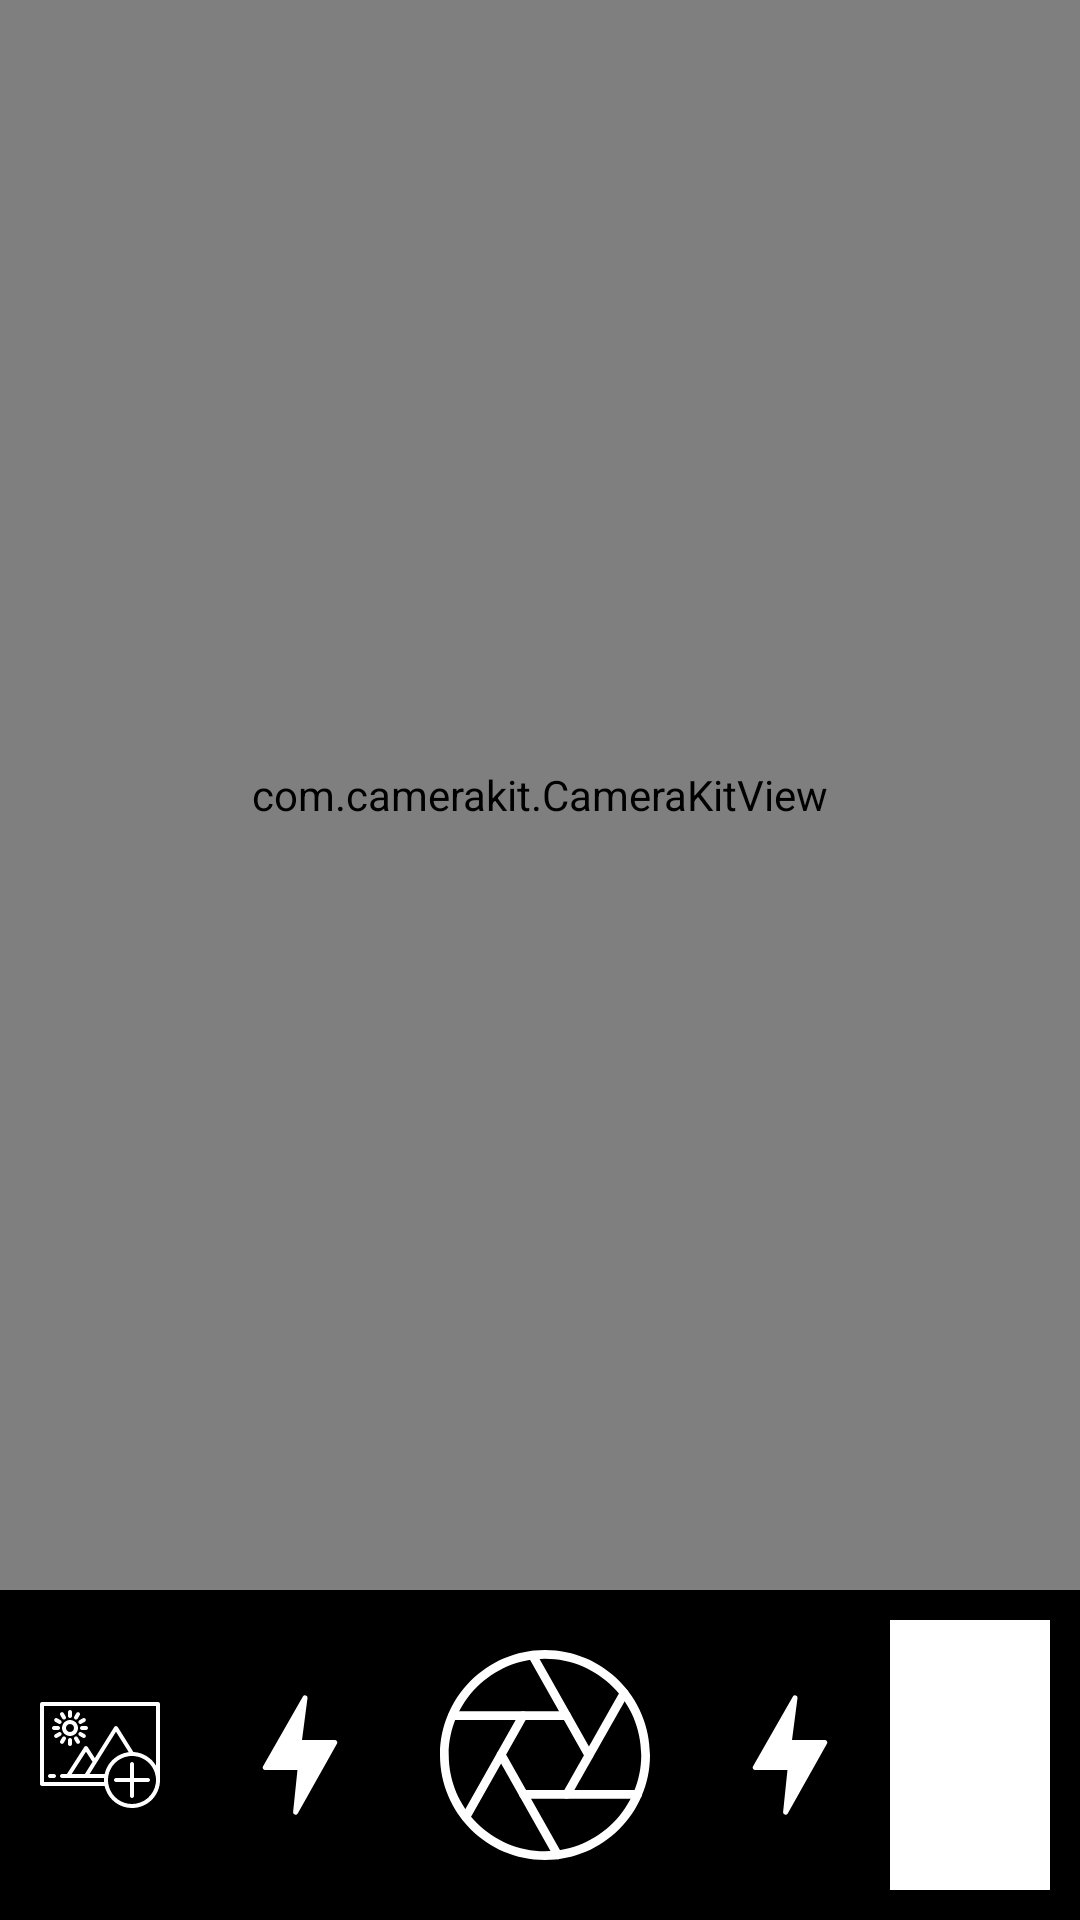

Icons on this 1080 x 1920 Android screen, each with its box as box=[x1, y1, x2, y2]:
add: box=[40, 1702, 160, 1808]
flash: box=[262, 1695, 338, 1815], box=[752, 1695, 828, 1815]
shutter: box=[440, 1650, 650, 1860]
